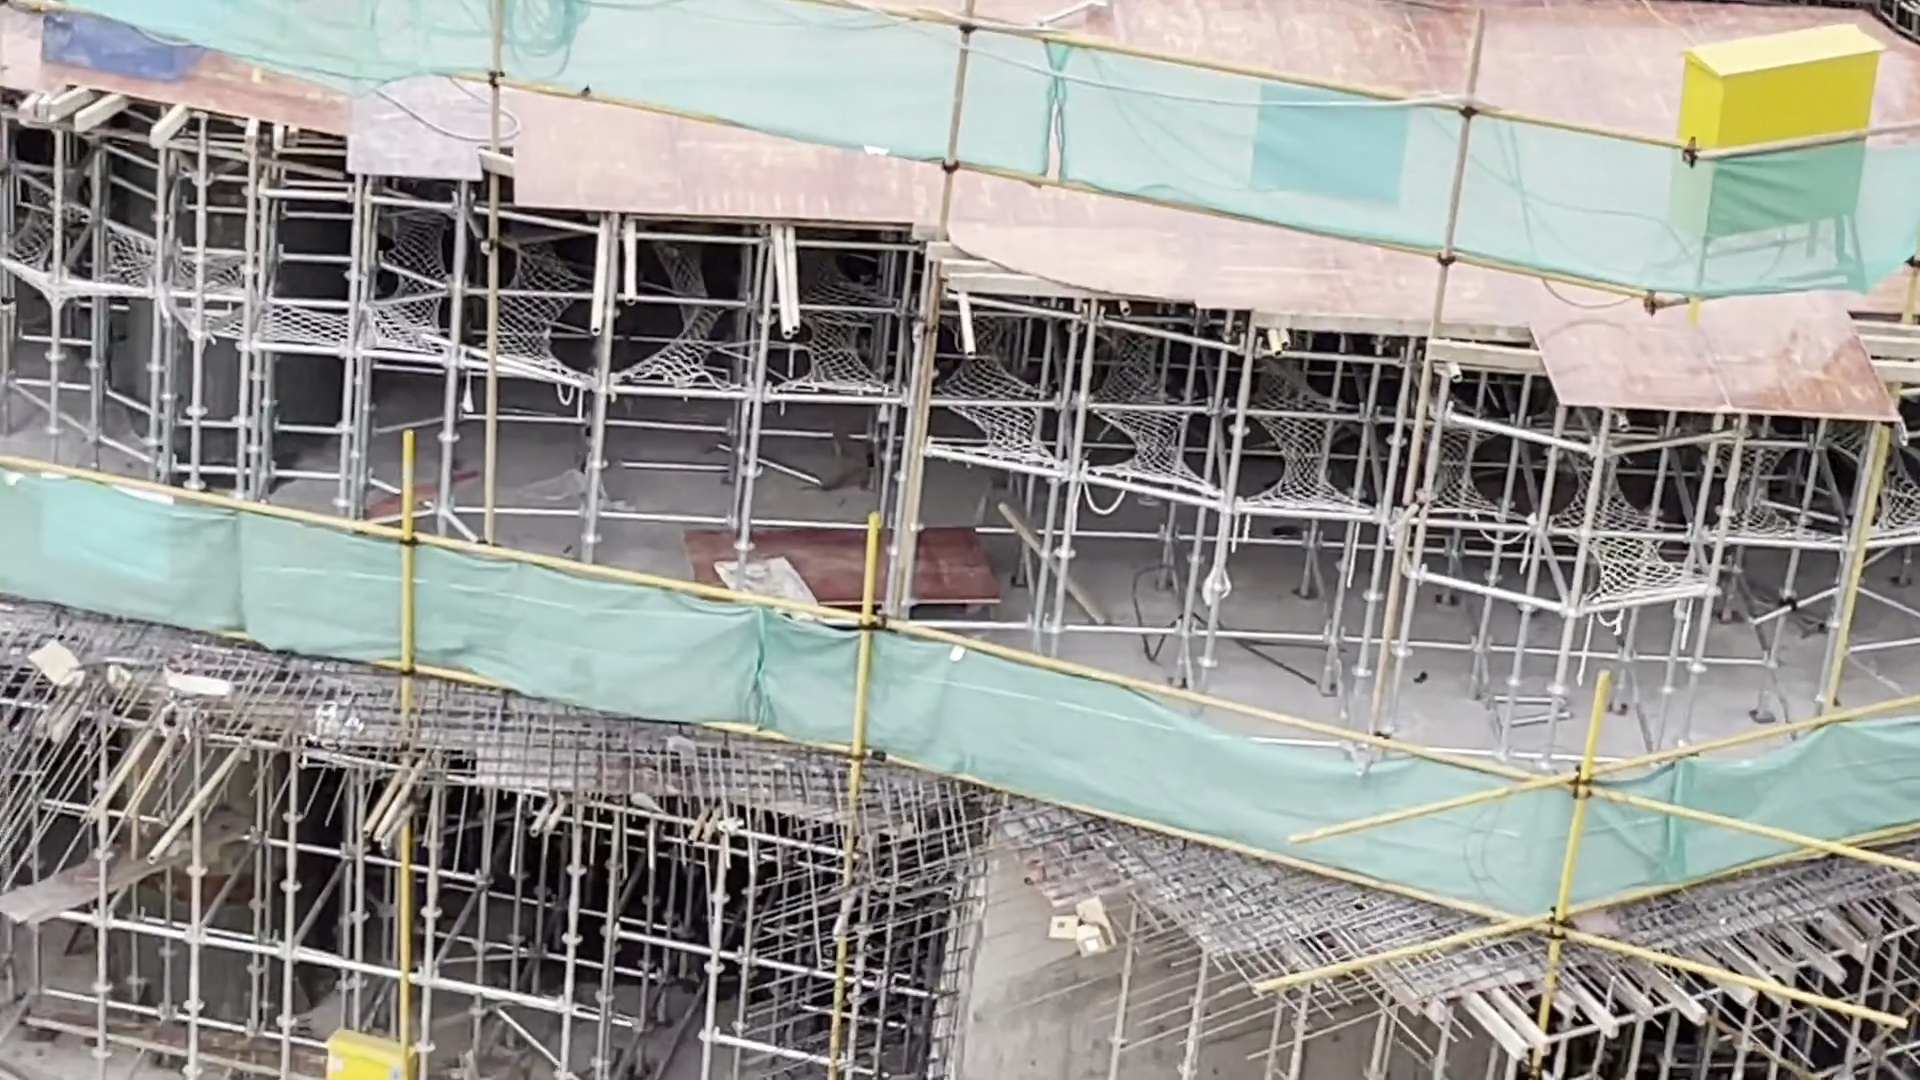ebox: (1677, 16, 1873, 262), (324, 1027, 410, 1080)
